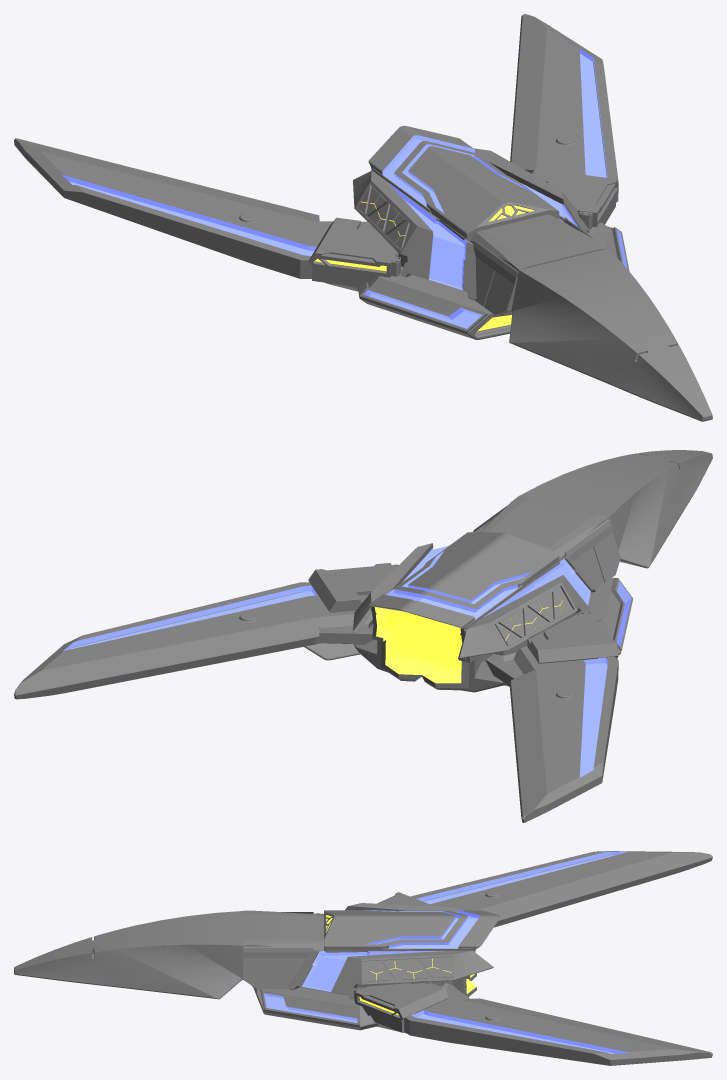
Rendered from spaceship.fbx.
3 views of the same model, one above another, from view 1: azimuth 30°, elevation 25°; view 2: azimuth 150°, elevation 25°; view 3: azimuth 270°, elevation 25° (orthographic). The views are drawn at different scales.
Visible parts, largest first — view 1: 3DGeom-1576, 3DGeom-1575, 3DGeom-1577; view 2: 3DGeom-1576, 3DGeom-1575, 3DGeom-1577; view 3: 3DGeom-1576, 3DGeom-1575, 3DGeom-1577.
Part boxes in pixels (x1,y1,x2,y2): 3DGeom-1576: [14, 14, 712, 421]; 3DGeom-1575: [62, 49, 627, 328]; 3DGeom-1577: [315, 201, 534, 331]; 3DGeom-1576: [14, 450, 712, 822]; 3DGeom-1575: [63, 545, 631, 777]; 3DGeom-1577: [375, 600, 564, 683]; 3DGeom-1576: [14, 851, 712, 1065]; 3DGeom-1575: [263, 851, 628, 1053]; 3DGeom-1577: [326, 915, 476, 1015].
Size of the model in its own units: 0.1596 by 0.2256 by 0.027.
